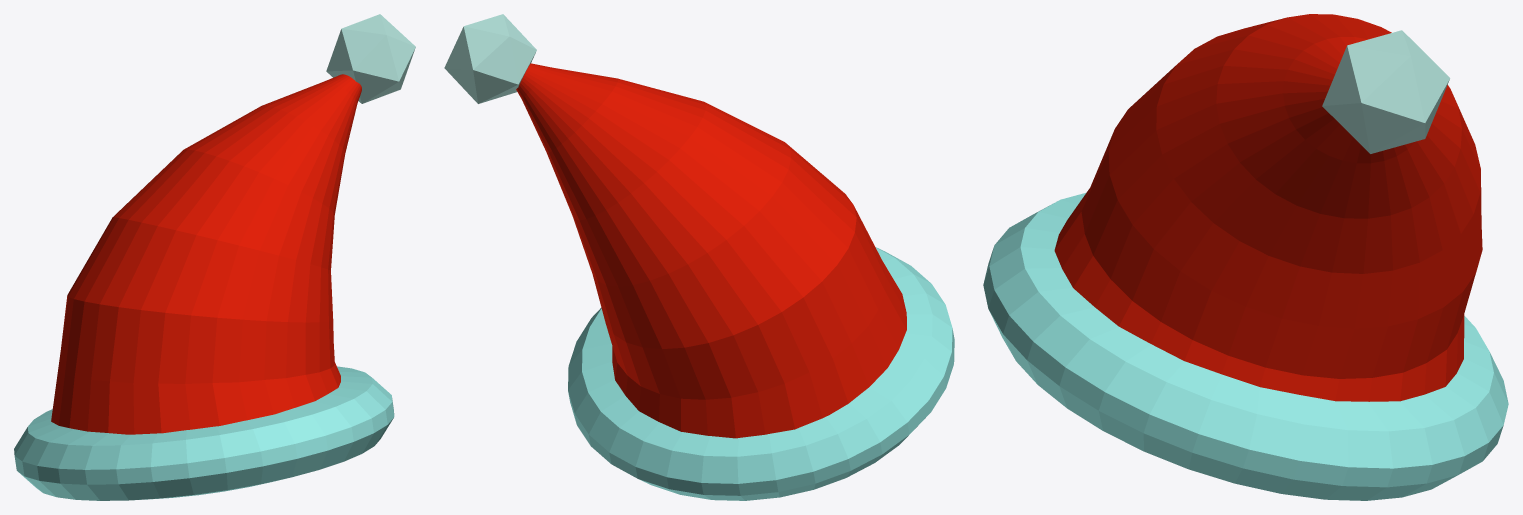
The model's file is santa.glb.
3 renders of one model, left to right at view 1: azimuth 30°, elevation 25°; view 2: azimuth 150°, elevation 25°; view 3: azimuth 270°, elevation 25°, orthographic. The views are drawn at different scales.
Parts seen in each view (by area): view 1: Cylinder, Cylinder.001, Icosphere; view 2: Cylinder, Cylinder.001, Icosphere; view 3: Cylinder, Cylinder.001, Icosphere.
Boxes of the visible parts, <box> form: Cylinder: <box>51,74,361,434</box>; Cylinder.001: <box>14,366,394,500</box>; Icosphere: <box>326,14,415,103</box>; Cylinder: <box>516,63,906,438</box>; Cylinder.001: <box>568,247,954,500</box>; Icosphere: <box>444,14,536,103</box>; Cylinder: <box>1054,14,1482,401</box>; Cylinder.001: <box>983,193,1508,500</box>; Icosphere: <box>1322,30,1450,153</box>.
Size of the model in its own units: 0.5402 by 0.4784 by 0.416.
